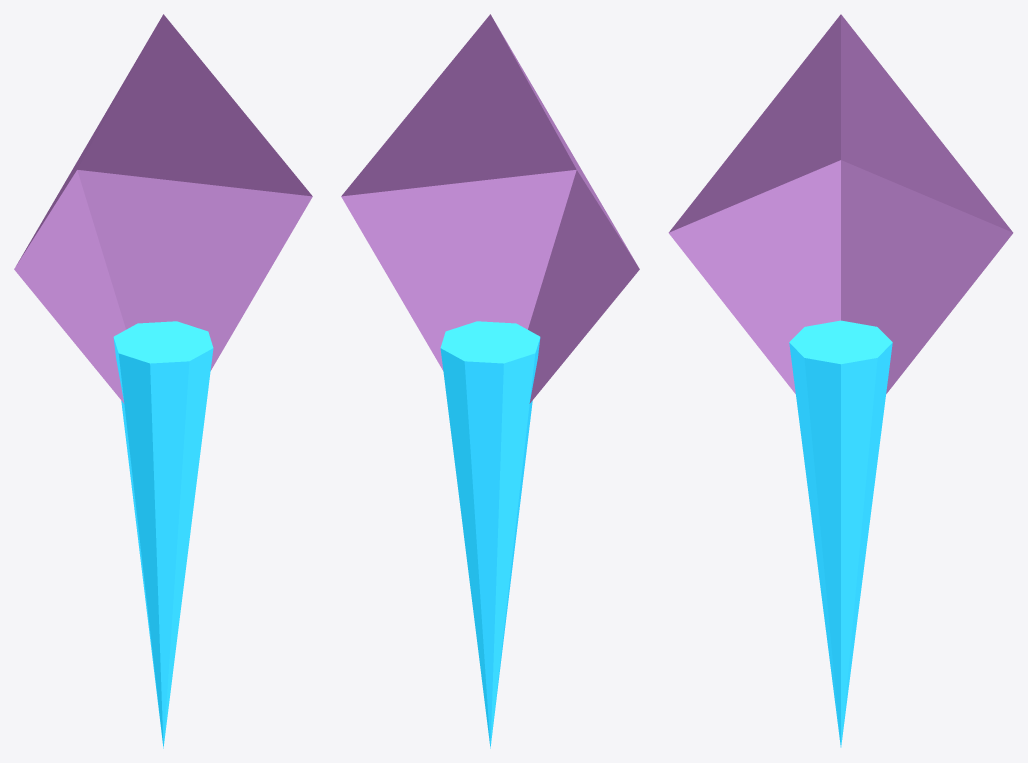
The model's file is pin.glb.
3 renders of one model, left to right at view 1: azimuth 30°, elevation 25°; view 2: azimuth 150°, elevation 25°; view 3: azimuth 270°, elevation 25°, orthographic.
Parts seen in each view (by area): view 1: tip, stem; view 2: tip, stem; view 3: tip, stem.
Part boxes in pixels (x1=…): tip: x1=14, y1=14, x2=312, y2=403; stem: x1=113, y1=321, x2=213, y2=748; tip: x1=341, y1=14, x2=639, y2=403; stem: x1=440, y1=321, x2=540, y2=748; tip: x1=668, y1=14, x2=1013, y2=393; stem: x1=789, y1=320, x2=892, y2=747.
Bounding box in the file's own units: 0.4 × 0.94 × 0.4.
